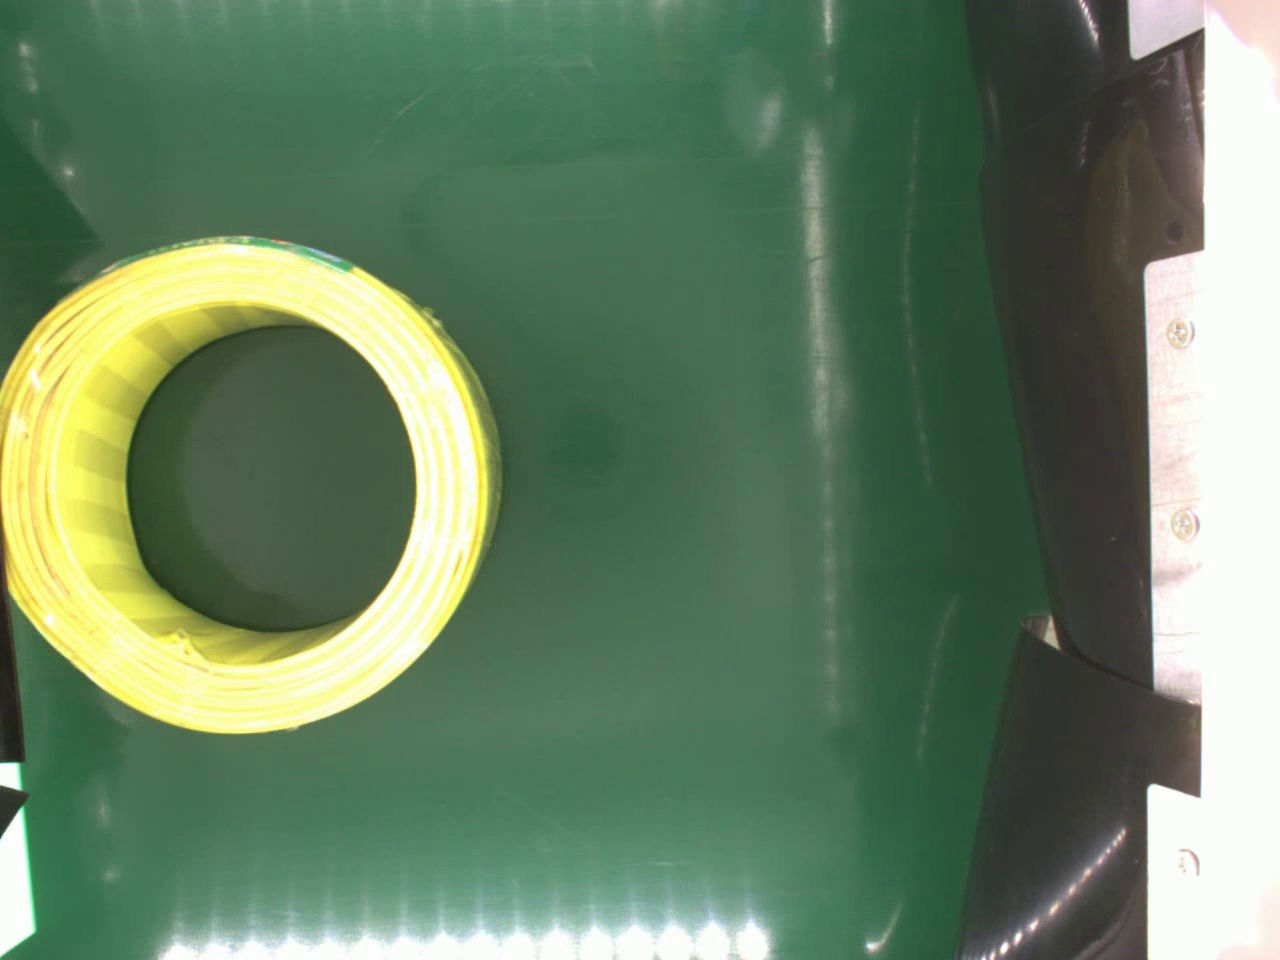yellow: (0, 235, 502, 733)
